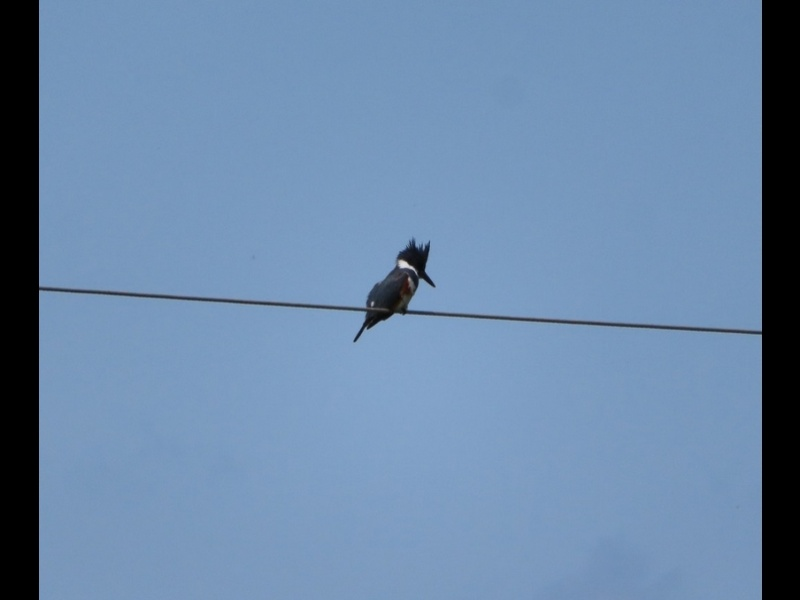kingfisher: (352, 235, 440, 341)
